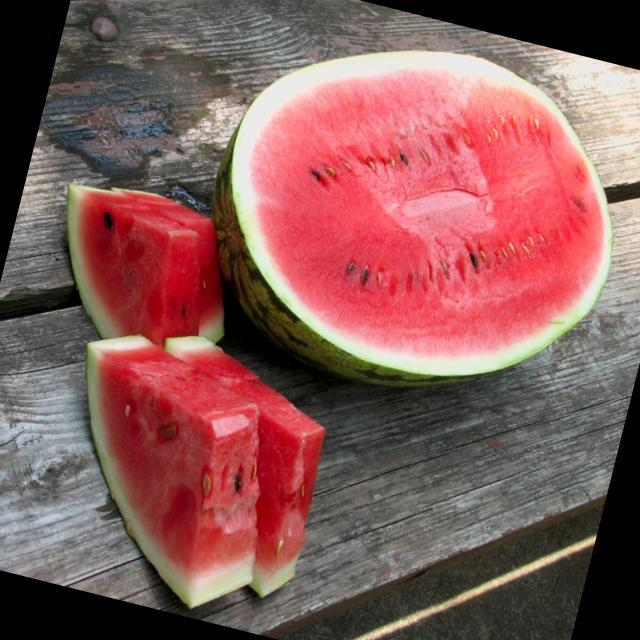WATERMELON: (194, 1, 640, 411), (42, 308, 348, 626), (42, 165, 257, 348)
